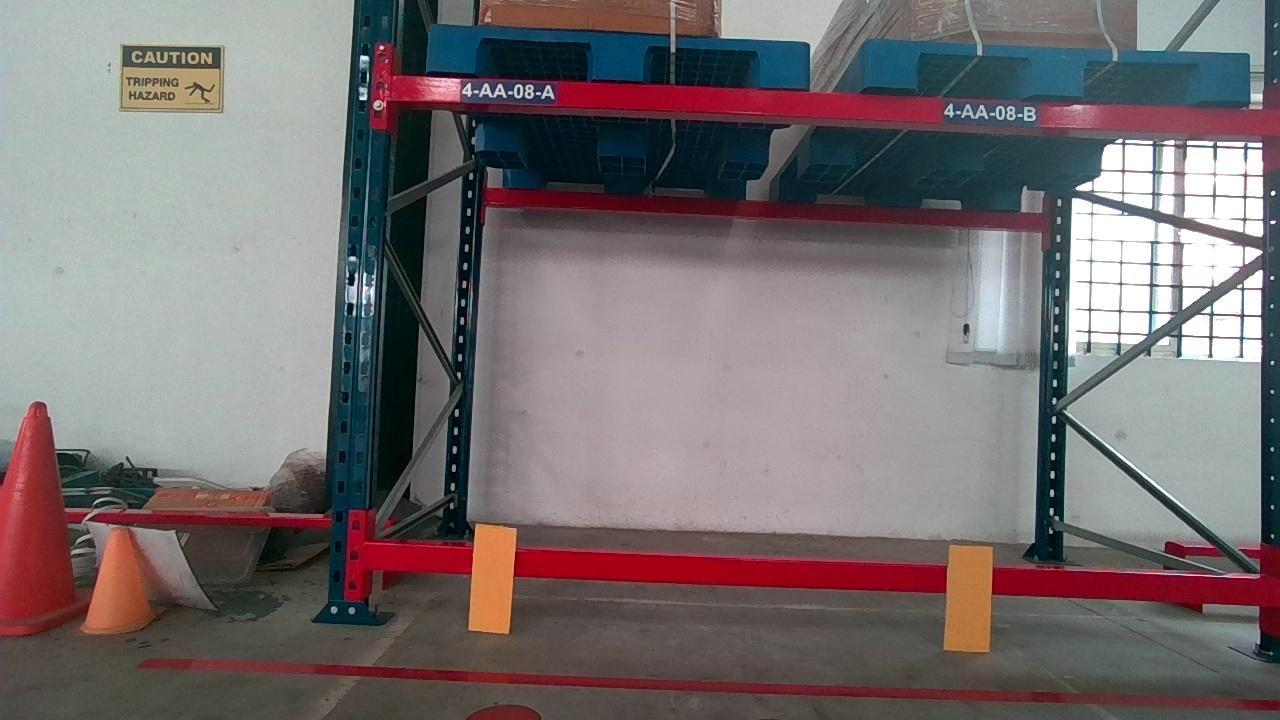h_rack: (393, 73, 1280, 136), (370, 543, 1269, 602)
orange_strip: (944, 544, 993, 649), (468, 522, 515, 631)
red_line: (139, 651, 1280, 711)
small_pallet: (859, 41, 1246, 100), (431, 28, 806, 80)
